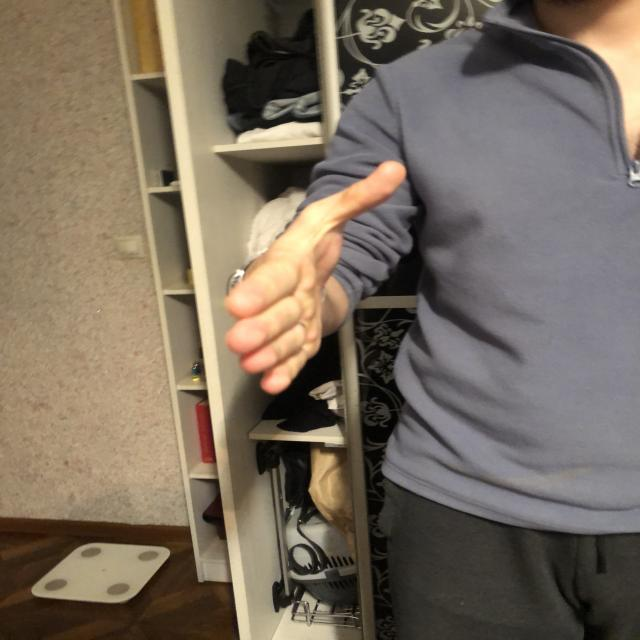paper: (222, 157, 400, 391)
